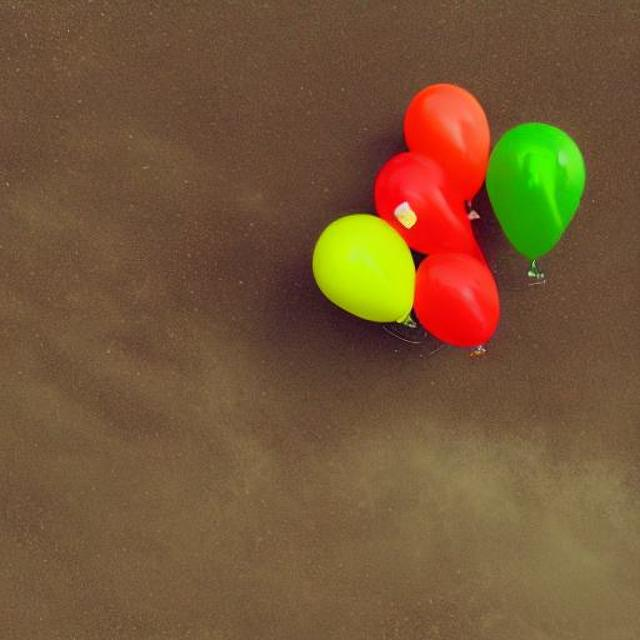balloon: (304, 75, 594, 363)
